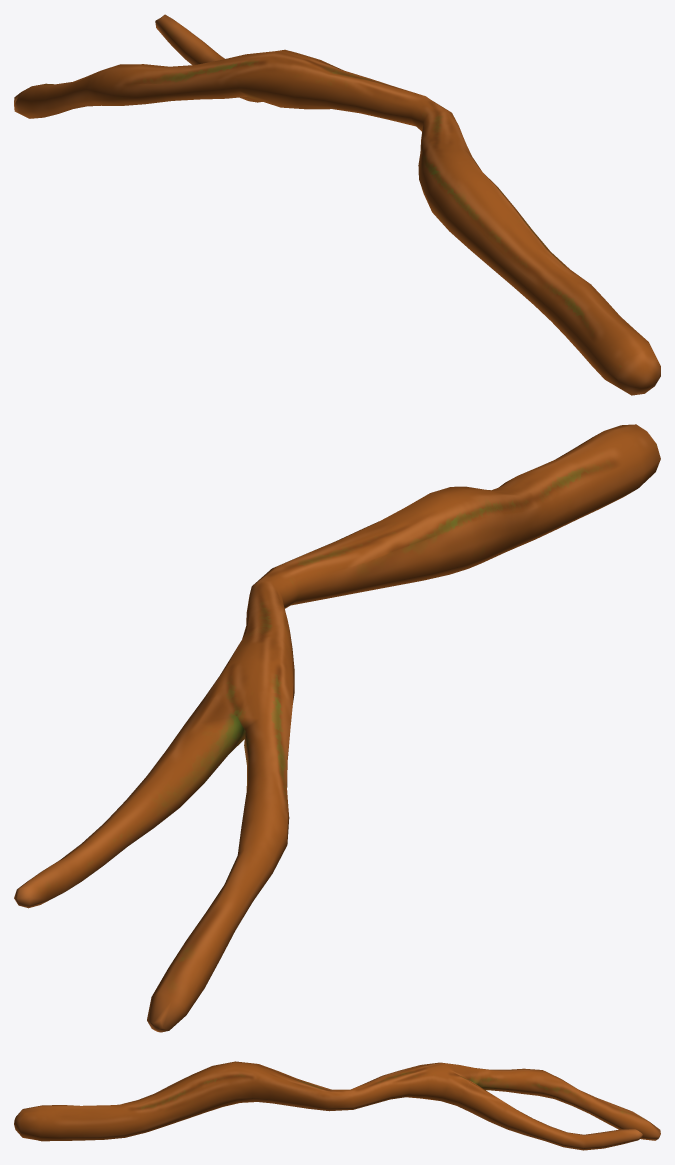
Rendered from kok_5.fbx.
The picture shows the model from 3 angles, top to bottom: view 1: azimuth 30°, elevation 25°; view 2: azimuth 150°, elevation 25°; view 3: azimuth 270°, elevation 25°; orthographic projection. The views are drawn at different scales.
Parts seen in each view (by area): view 1: Retopo_kok5; view 2: Retopo_kok5; view 3: Retopo_kok5.
Part boxes in pixels (left/top/right/bottom): Retopo_kok5: left=14, top=14, right=660, bottom=395; Retopo_kok5: left=14, top=424, right=660, bottom=1032; Retopo_kok5: left=14, top=1061, right=660, bottom=1150.
Size of the model in its own units: 331 by 295 by 1608.
